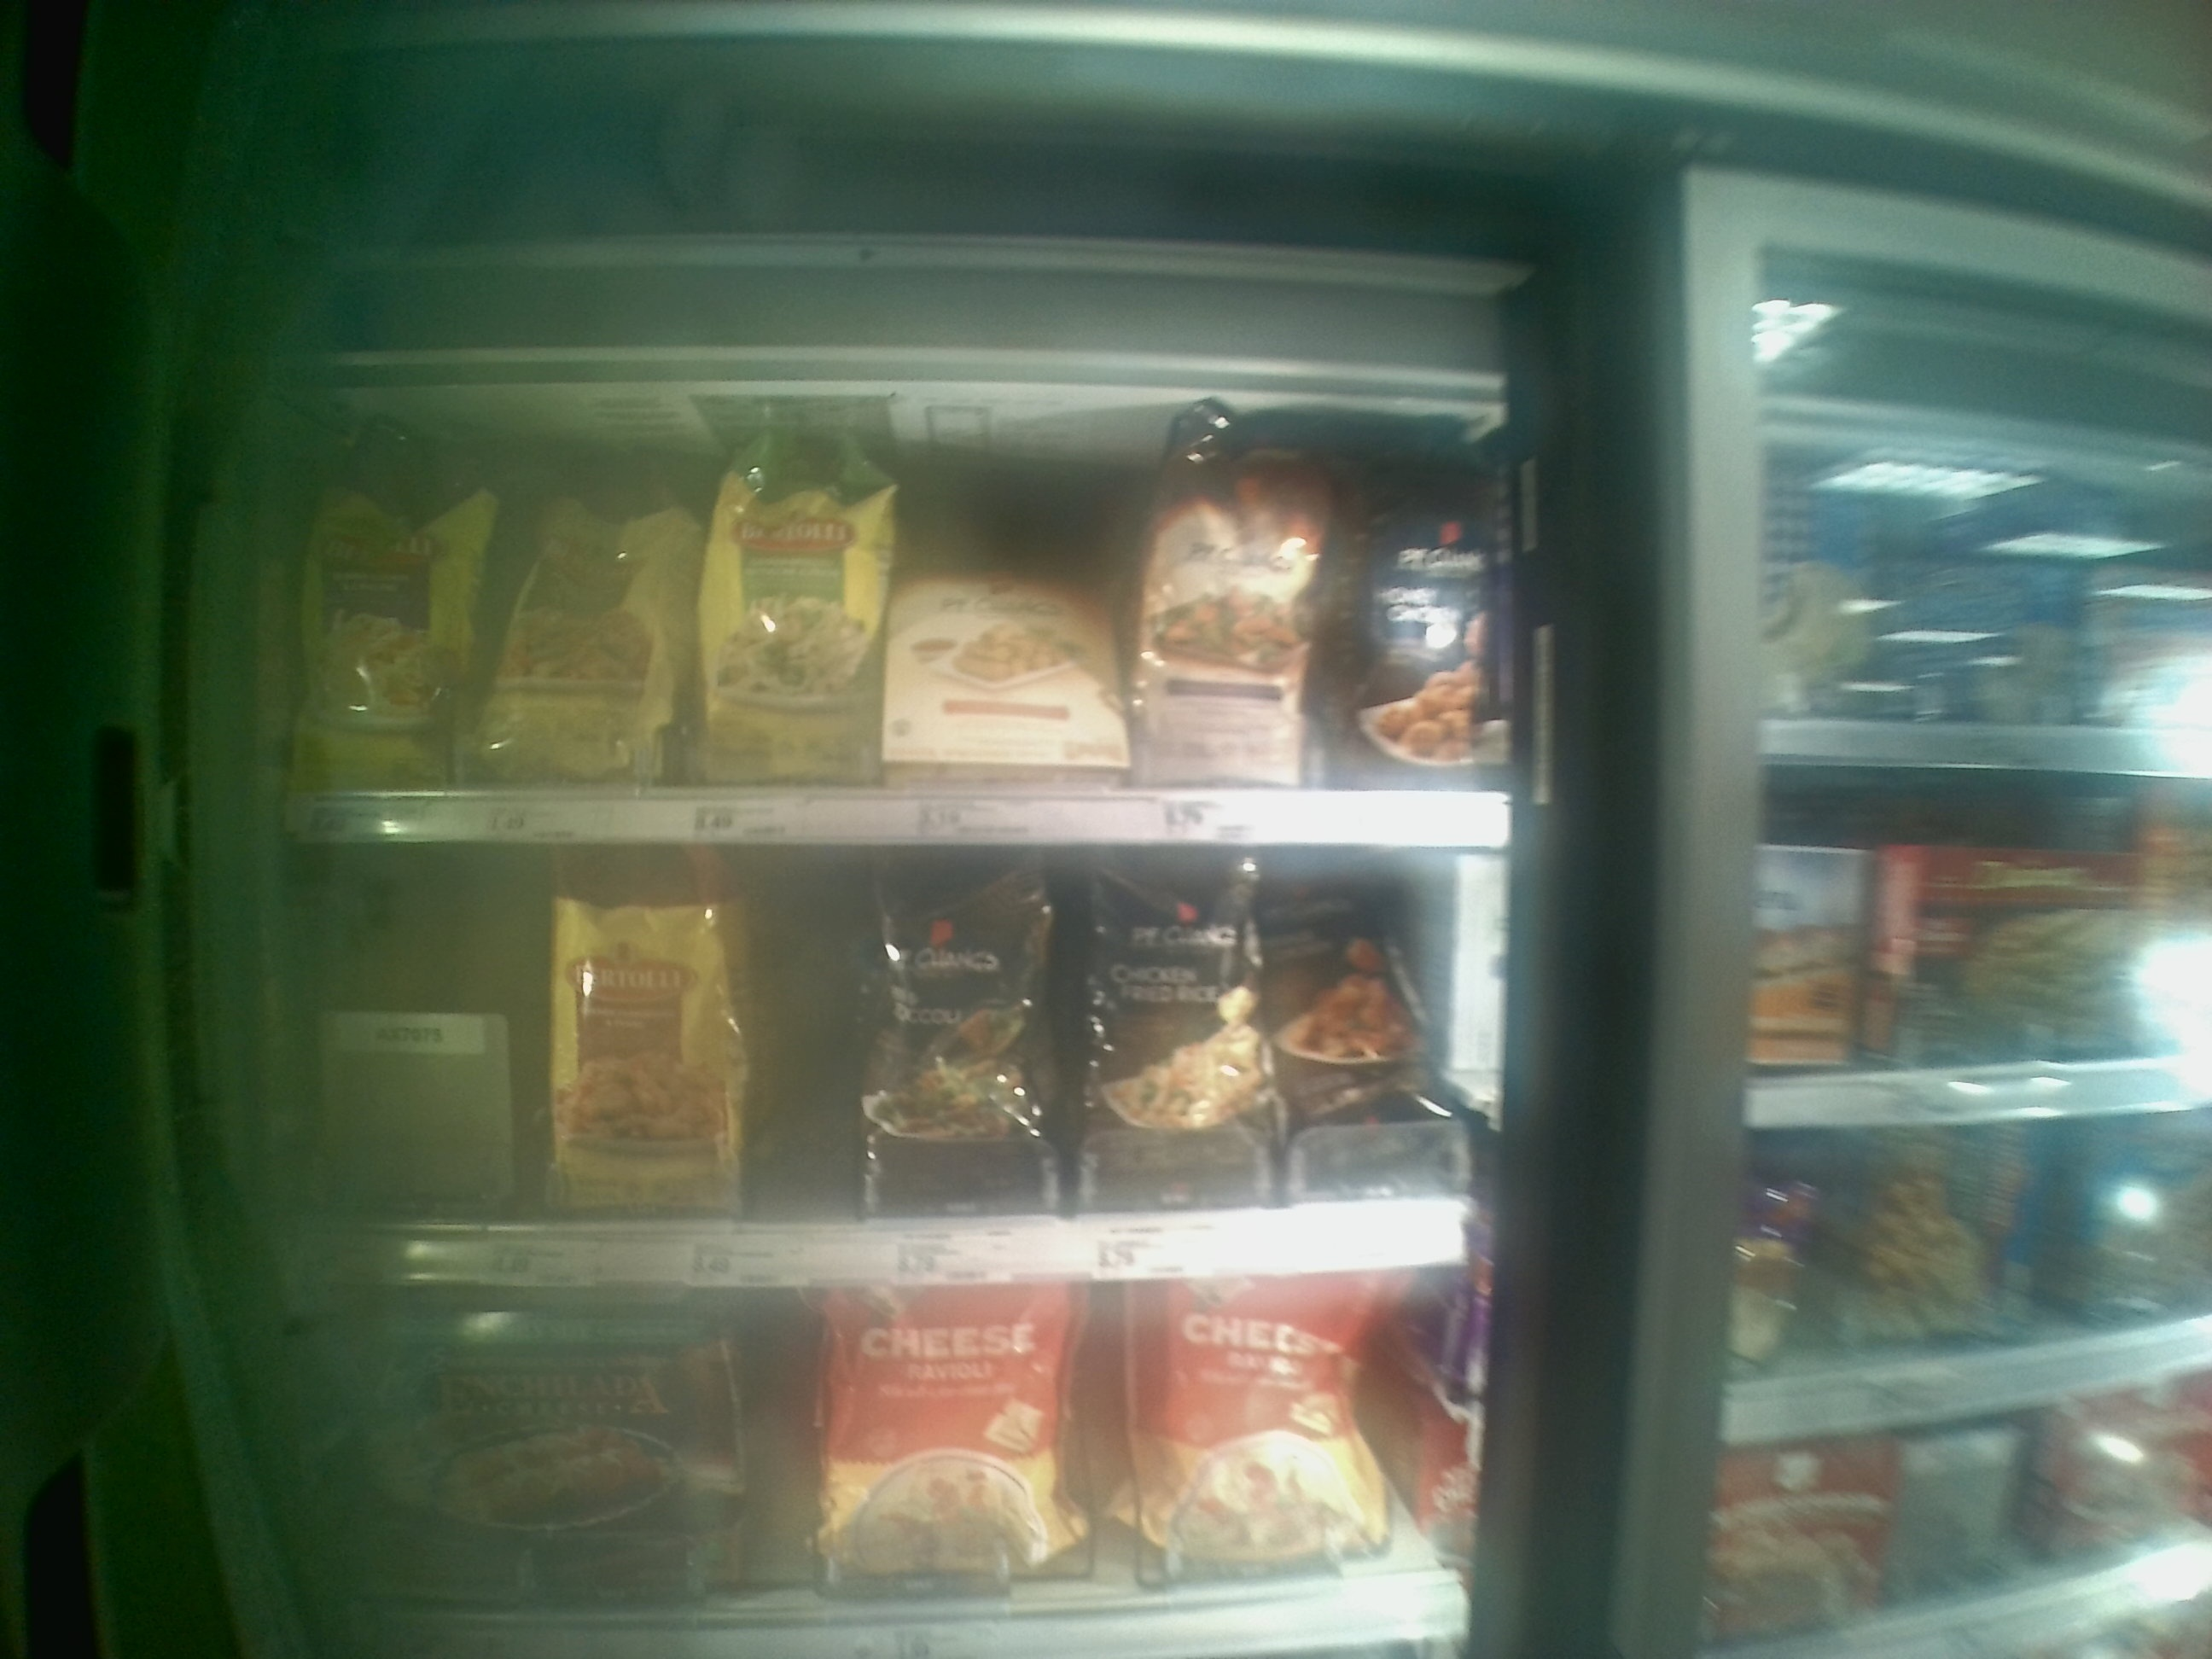frozen-food-shelf: (293, 403, 1507, 854), (298, 849, 1460, 1269)
